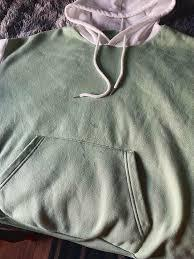mustard: (72, 132, 97, 166), (89, 116, 102, 129)
